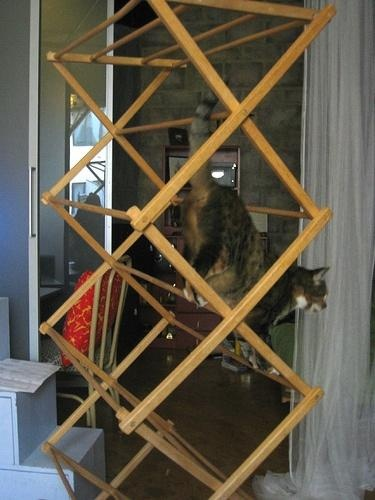cat: (174, 81, 340, 361)
chair: (43, 249, 139, 432)
